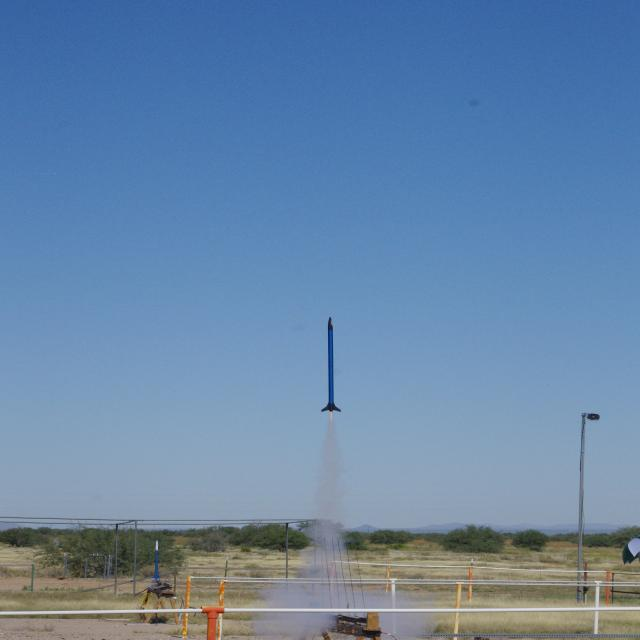Rocket: (322, 316, 342, 413), (152, 539, 162, 581)
